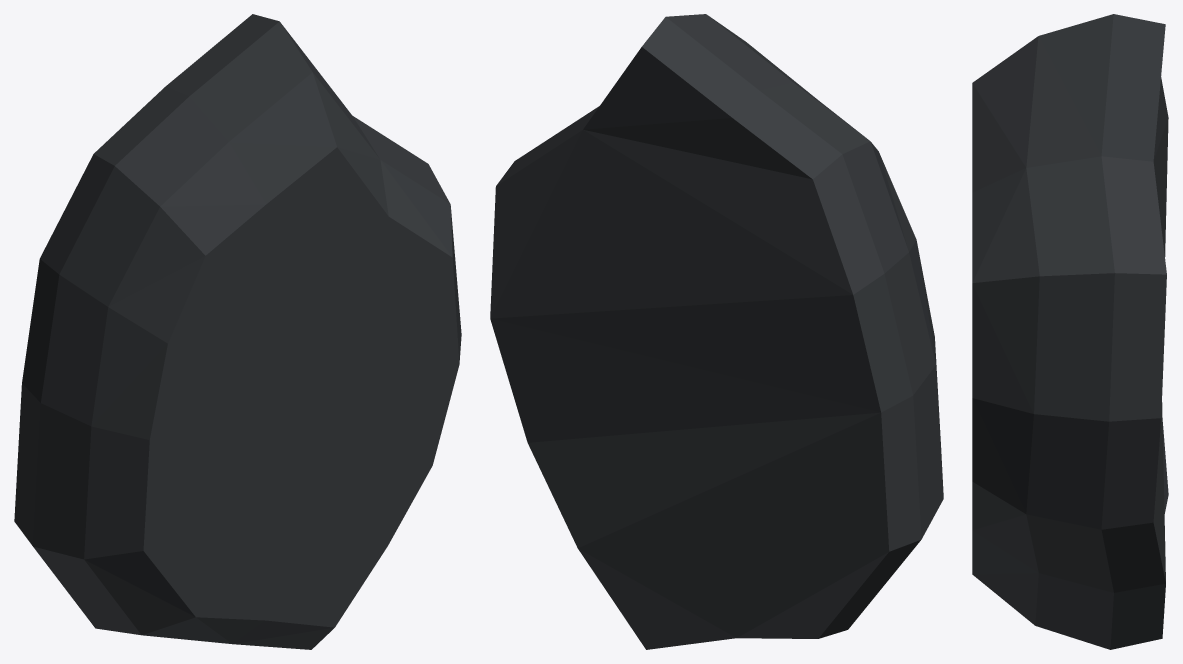
File: FERNSTONE_LIGHT.shadow.glb
3 views of the same model, side by side, from view 1: azimuth 30°, elevation 25°; view 2: azimuth 150°, elevation 25°; view 3: azimuth 270°, elevation 25° (orthographic). The views are drawn at different scales.
Parts seen in each view (by area): view 1: Body_Mesh; view 2: Body_Mesh; view 3: Body_Mesh.
Part boxes in pixels (x1,y1,x2,y2): Body_Mesh: [14, 14, 461, 649]; Body_Mesh: [490, 14, 943, 649]; Body_Mesh: [972, 14, 1168, 649].
Bounding box in the file's own units: 0.2513 × 0.3648 × 0.1018.
Materials: 1 (1 with a texture image).
